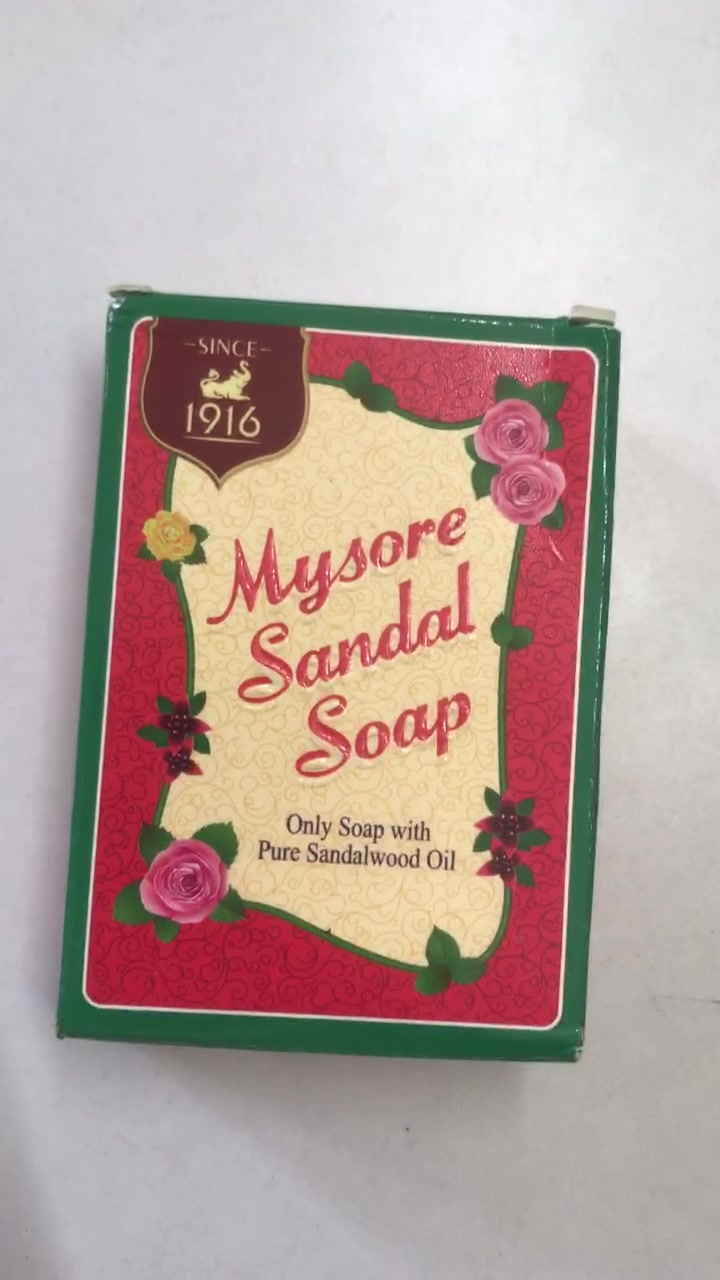mysore sandal soap: (52, 291, 592, 1062)
